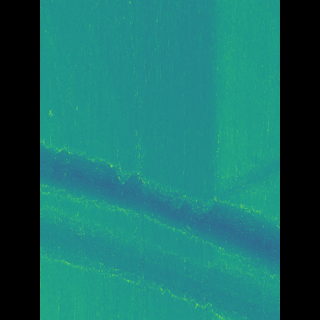Loch: (70, 138, 251, 320)
